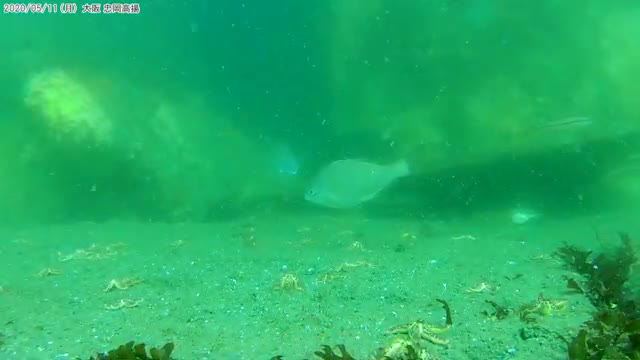smallfish: (296, 157, 410, 215)
